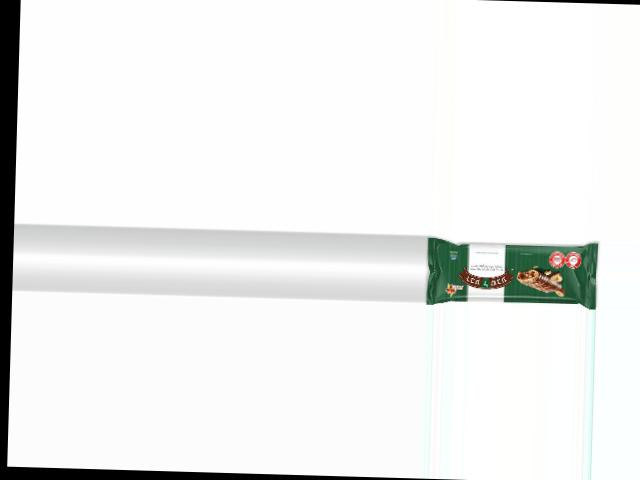chocolate: (423, 233, 599, 309)
